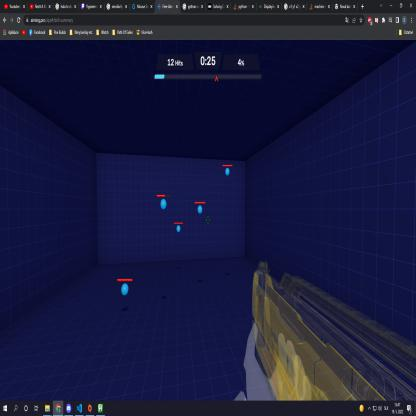sphere: (121, 282, 128, 296), (160, 199, 167, 210), (197, 205, 203, 214), (176, 224, 181, 234), (225, 167, 230, 176)
